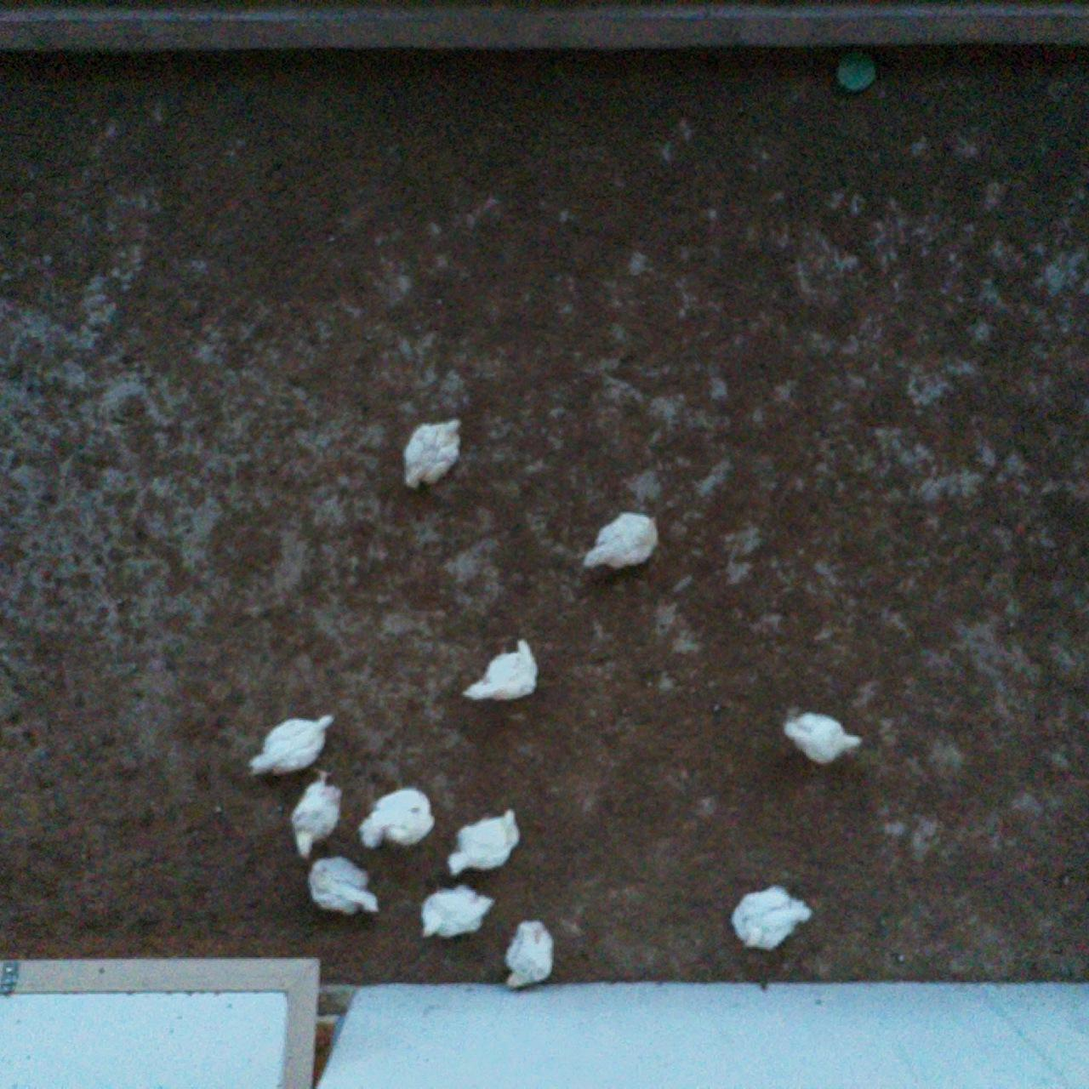chicken: (245, 709, 344, 777), (727, 884, 816, 955), (444, 805, 529, 879), (463, 631, 546, 703), (358, 786, 438, 858), (395, 411, 465, 490), (583, 511, 663, 577), (289, 770, 347, 860), (298, 853, 378, 918), (778, 710, 865, 764), (503, 911, 558, 994), (416, 881, 493, 938)
